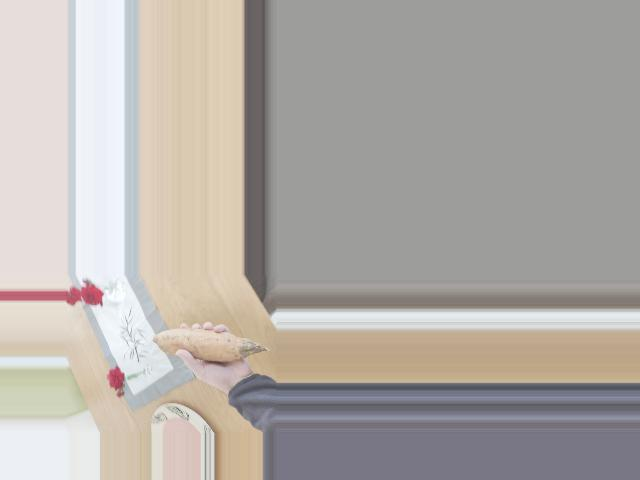sweet_potato: (150, 323, 259, 371)
